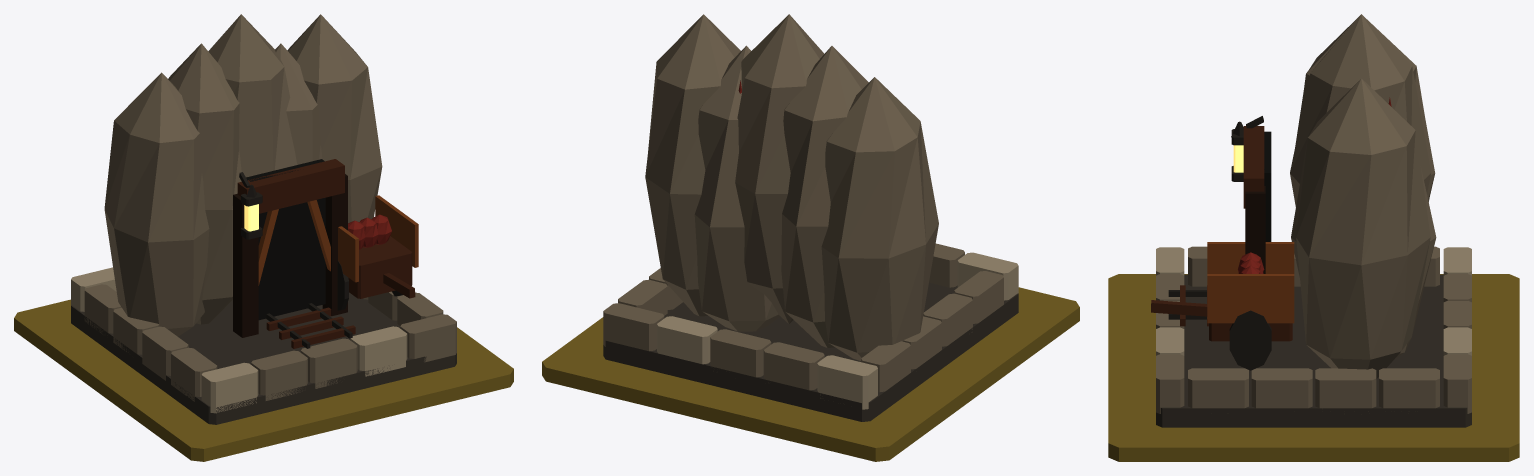
Rendered from emberglass_t6.glb.
The picture shows the model from 3 angles, left to right: view 1: azimuth 30°, elevation 25°; view 2: azimuth 150°, elevation 25°; view 3: azimuth 270°, elevation 25°; orthographic projection. The views are drawn at different scales.
Visible parts, largest first — view 1: MMR | emberglass | T06 Architecture.001, MMR | emberglass | Tier 06 Ground.001; view 2: MMR | emberglass | T06 Architecture.001, MMR | emberglass | Tier 06 Ground.001; view 3: MMR | emberglass | T06 Architecture.001, MMR | emberglass | Tier 06 Ground.001.
Part boxes in pixels (x1,y1,x2,y2): MMR | emberglass | T06 Architecture.001: (71,14,456,424); MMR | emberglass | Tier 06 Ground.001: (14,299,513,461); MMR | emberglass | T06 Architecture.001: (603,14,1018,421); MMR | emberglass | Tier 06 Ground.001: (542,287,1079,461); MMR | emberglass | T06 Architecture.001: (1151,14,1471,427); MMR | emberglass | Tier 06 Ground.001: (1108,274,1519,461).
Size of the model in its own units: 1.3 by 1.26 by 1.3.
Materials: 2 (1 with a texture image).
